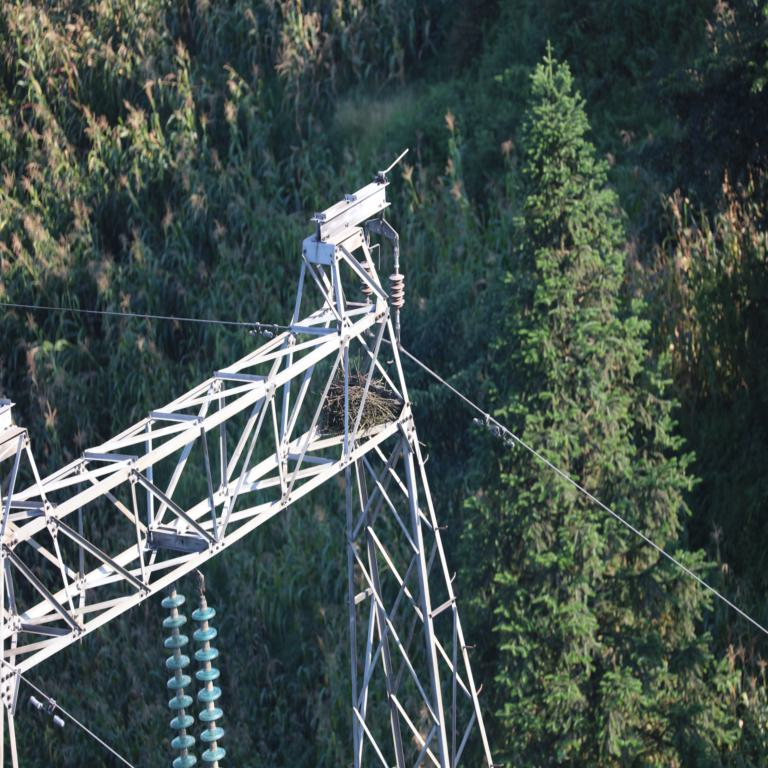nest: (323, 375, 392, 426)
